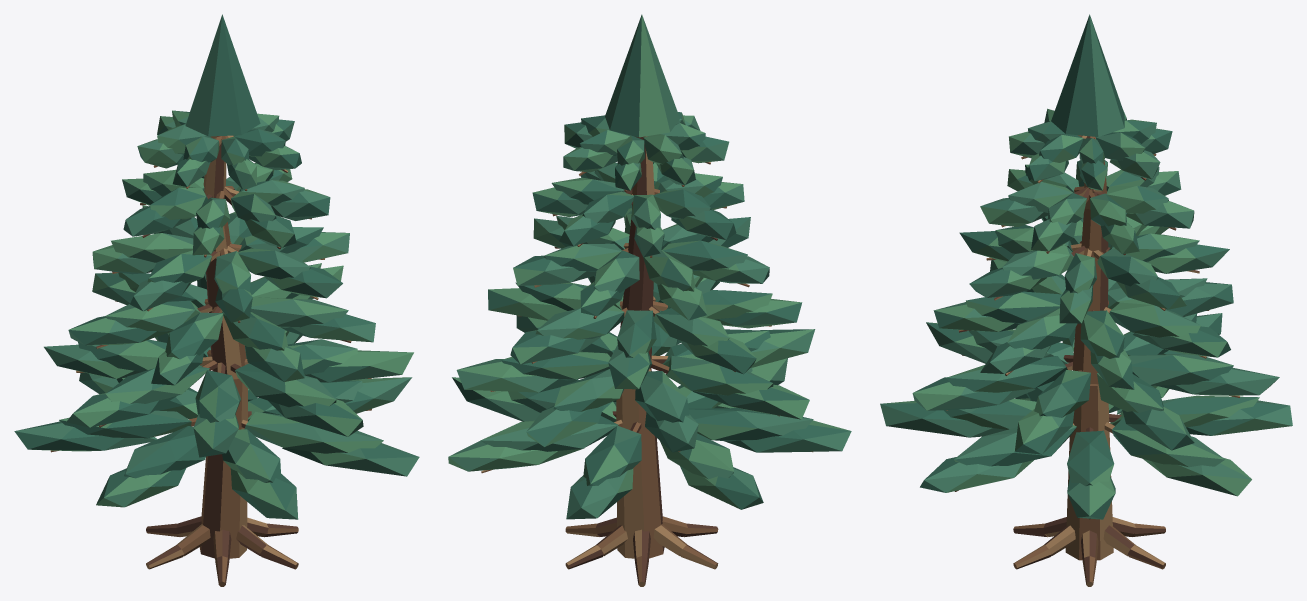
File: ancient_fir.glb
3 renders of one model, left to right at view 1: azimuth 30°, elevation 25°; view 2: azimuth 150°, elevation 25°; view 3: azimuth 270°, elevation 25°, orthographic.
Parts seen in each view (by area): view 1: ancient_fir; view 2: ancient_fir; view 3: ancient_fir.
Boxes of the visible parts, box(x1,y1,x2,y2) form: ancient_fir: box(14, 14, 419, 586); ancient_fir: box(448, 14, 851, 586); ancient_fir: box(880, 14, 1292, 586).
Size of the model in its own units: 3.81 by 5.51 by 3.84.
